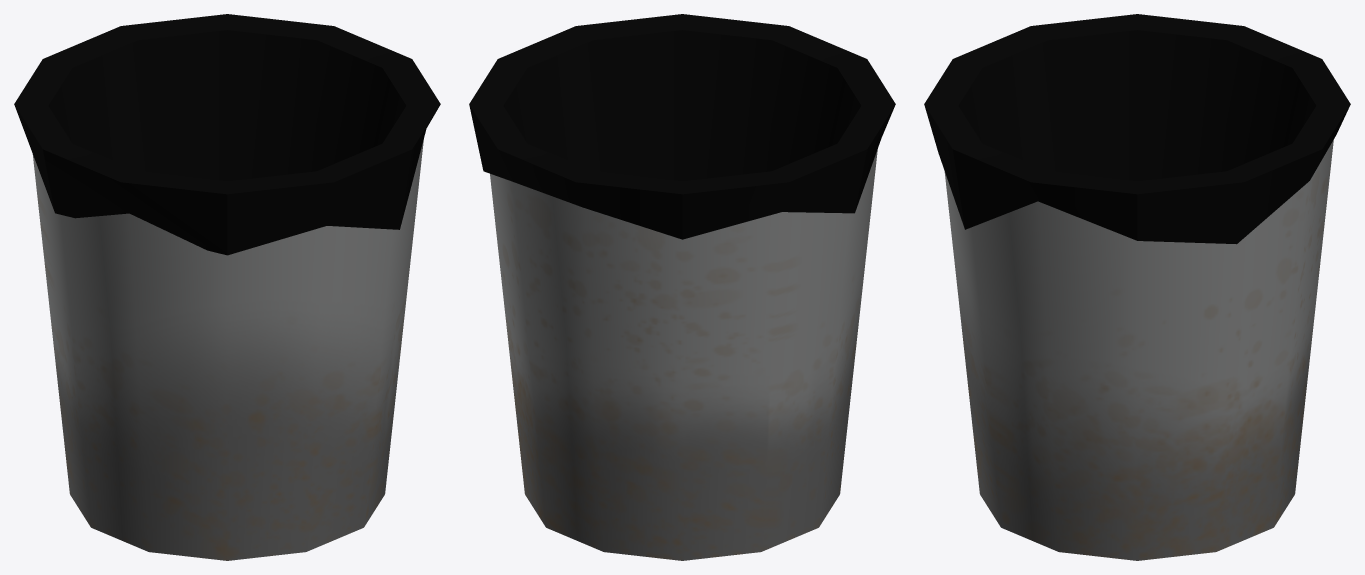
File: Prop_Trashcan.fbx
The picture shows the model from 3 angles, left to right: view 1: azimuth 30°, elevation 25°; view 2: azimuth 150°, elevation 25°; view 3: azimuth 270°, elevation 25°; orthographic projection.
Parts seen in each view (by area): view 1: Cylinder.006; view 2: Cylinder.006; view 3: Cylinder.006.
Boxes of the visible parts, bbox=[...] form: Cylinder.006: bbox=[14, 14, 440, 560]; Cylinder.006: bbox=[469, 14, 895, 560]; Cylinder.006: bbox=[924, 14, 1350, 560].
Bounding box in the file's own units: 44.88 × 45.29 × 44.88.
